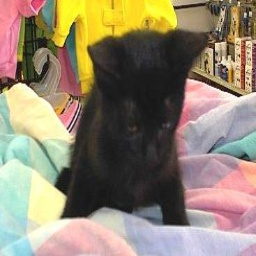cat: (55, 26, 206, 233)
